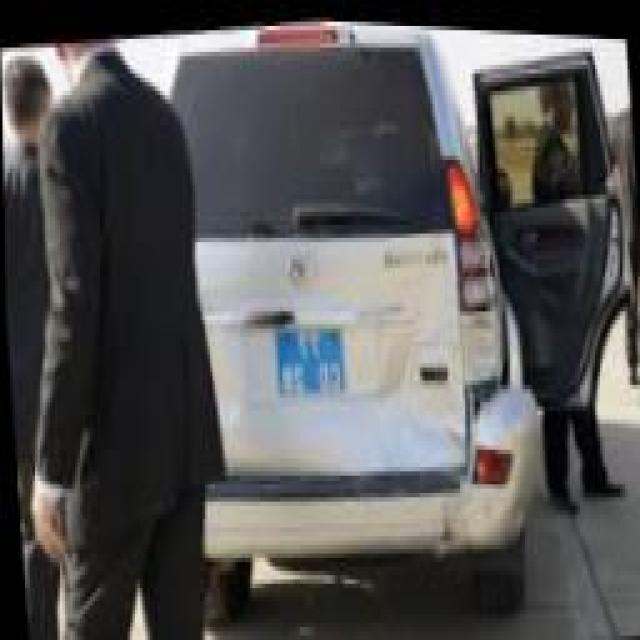Bumper: (438, 290, 549, 537)
